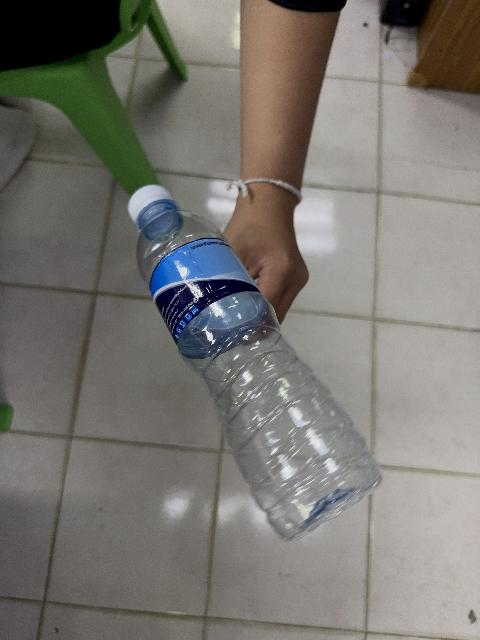bottle: (128, 186, 380, 540)
